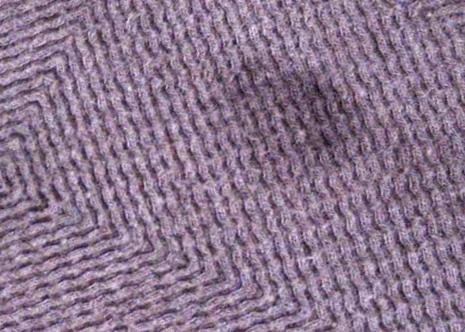stain: (225, 59, 372, 174)
